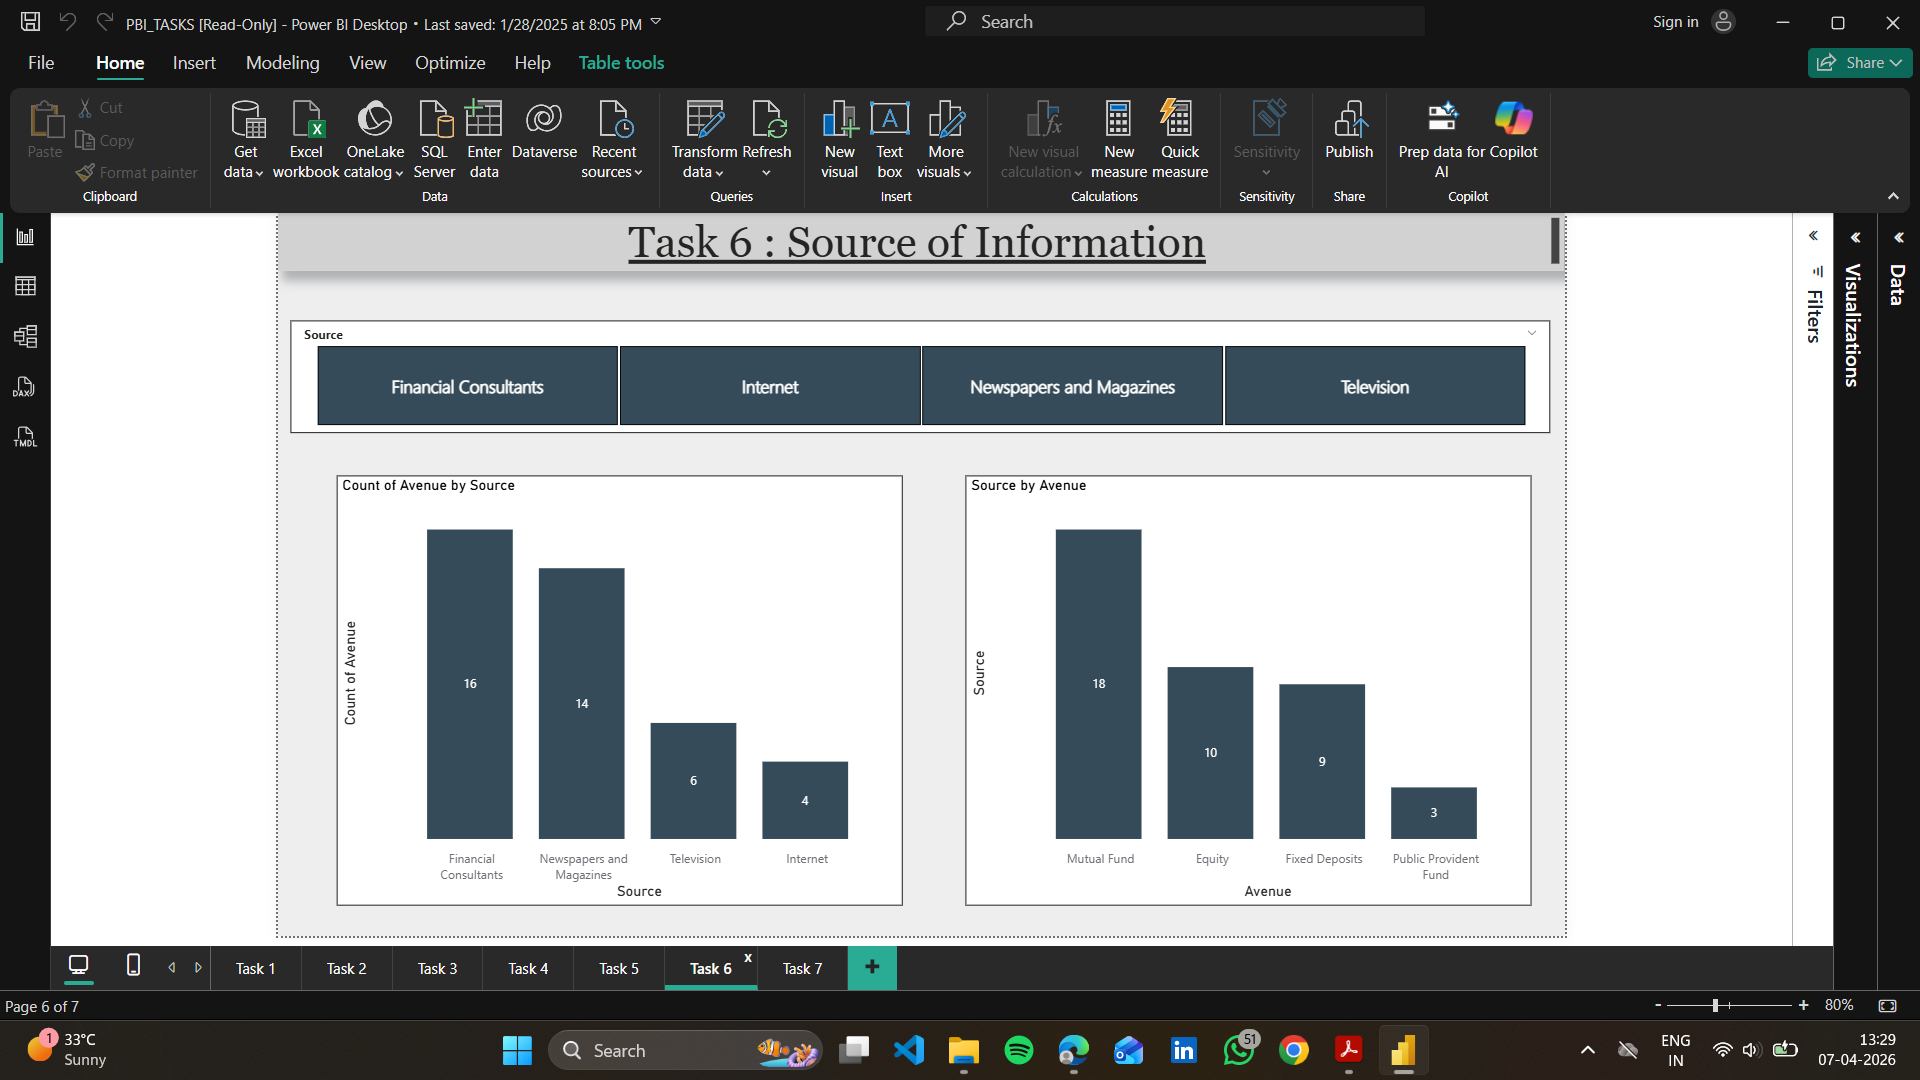

This screenshot's page, from the dashboard's own definition file:
{"tool":"powerbi","page":{"name":"Task 6","canvas":[1280,720],"ordinal":5},"visuals":[{"type":"textbox","box":[0,0,1280,57.2],"z":0},{"type":"clusteredColumnChart","fields":{"Category":["Data_set 2.Source"],"Y":["CountNonNull(Data_set 2.Avenue)"]},"box":[58.5,261.2,563.5,427.9],"z":1000},{"type":"clusteredColumnChart","fields":{"Y":["CountNonNull(Data_set 2.Source)"],"Category":["Data_set 2.Avenue"]},"box":[684.2,261.2,563.5,427.9],"z":2000},{"type":"slicer","fields":{"Values":["Data_set 2.Source"]},"box":[12.4,107,1253.9,112],"z":3000}]}

Visuals, with their boxes on the page's 1280x720 design canvas (x1, y1, x2, y2). These are canvas units, not pixel positions in the 1920x1080 screenshot, which may show the page scaled, cropped or inside an application window:
textbox: detection(0, 0, 1280, 57)
clusteredColumnChart - Data_set 2.Source x CountNonNull(Data_set 2.Avenue): detection(58, 261, 622, 689)
clusteredColumnChart - CountNonNull(Data_set 2.Source) x Data_set 2.Avenue: detection(684, 261, 1248, 689)
slicer - Data_set 2.Source: detection(12, 107, 1266, 219)
